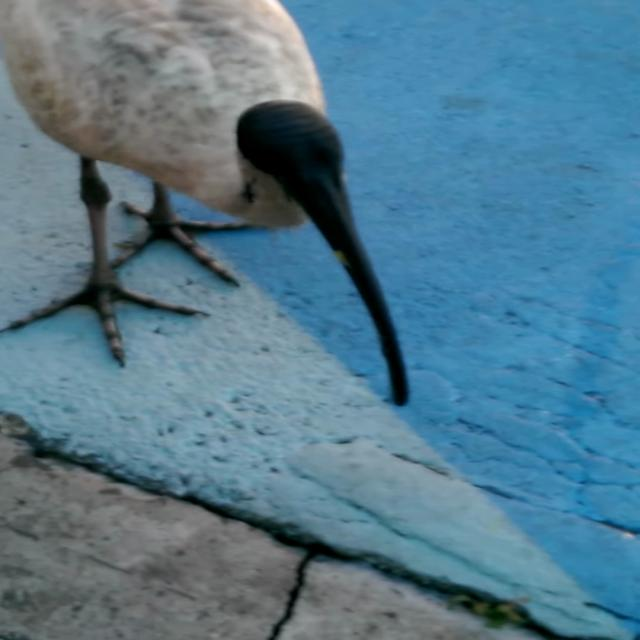Birds-Ibis: (0, 0, 424, 414)
